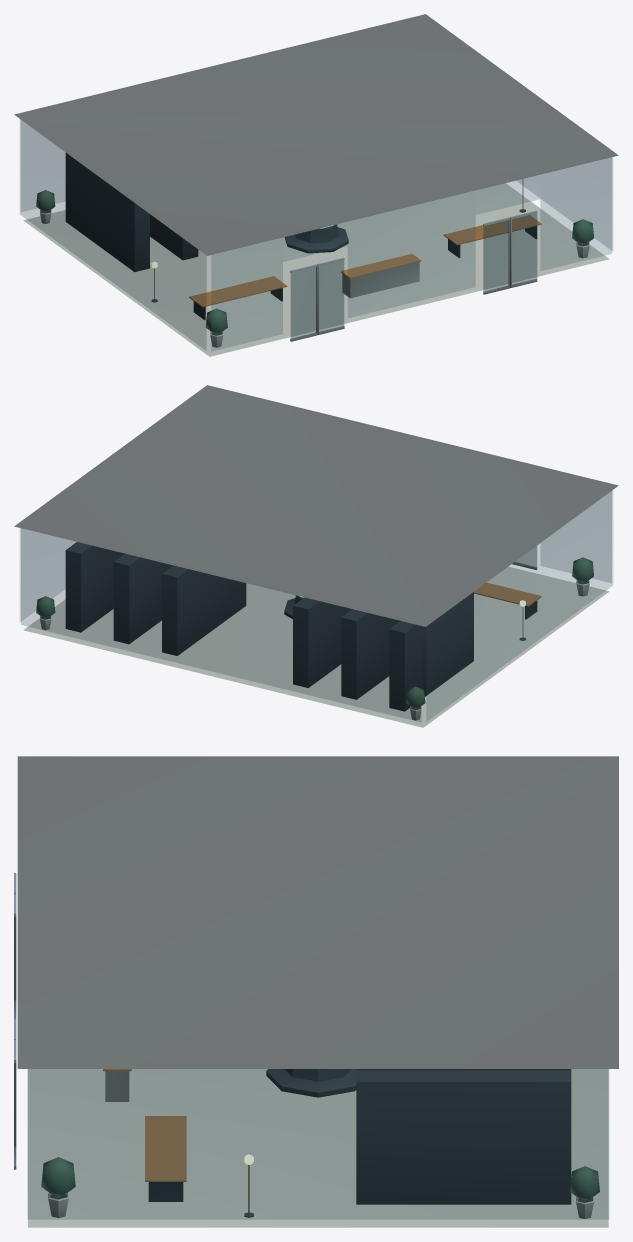
Rendered from lobby-memory.lod2.glb.
The picture shows the model from 3 angles, top to bottom: view 1: azimuth 30°, elevation 25°; view 2: azimuth 150°, elevation 25°; view 3: azimuth 270°, elevation 25°; orthographic projection. The views are drawn at different scales.
Parts seen in each view (by area): view 1: structure, door_1_l, door_0_l, door_0_r, door_1_r, foliage; view 2: structure, foliage; view 3: structure, foliage.
Part boxes in pixels (x1=…): structure: x1=14, y1=14, x2=618, y2=356; door_1_l: x1=483, y1=217, x2=510, y2=294; door_0_l: x1=290, y1=264, x2=317, y2=341; door_0_r: x1=317, y1=257, x2=344, y2=334; door_1_r: x1=510, y1=210, x2=537, y2=287; foliage: x1=36, y1=190, x2=593, y2=333; structure: x1=14, y1=385, x2=618, y2=727; foliage: x1=36, y1=557, x2=593, y2=708; structure: x1=17, y1=756, x2=618, y2=1227; foliage: x1=41, y1=1157, x2=599, y2=1200.
Size of the model in its own units: 21.36 by 5.22 by 17.46.
